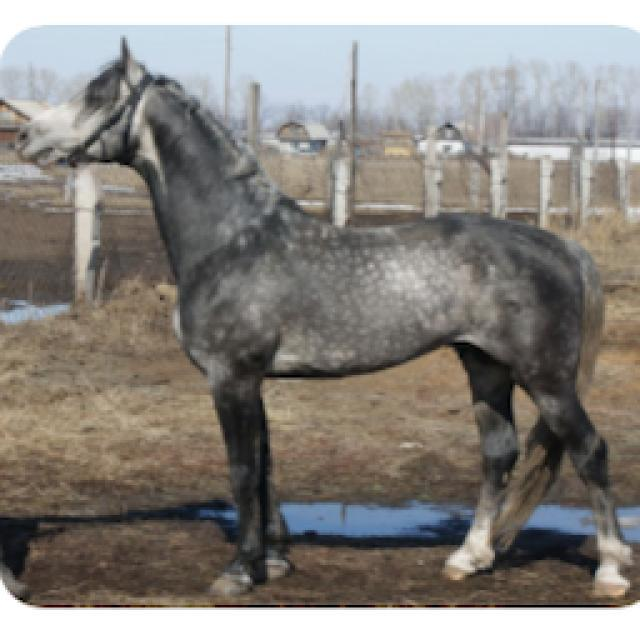Horse: (5, 32, 638, 598)
